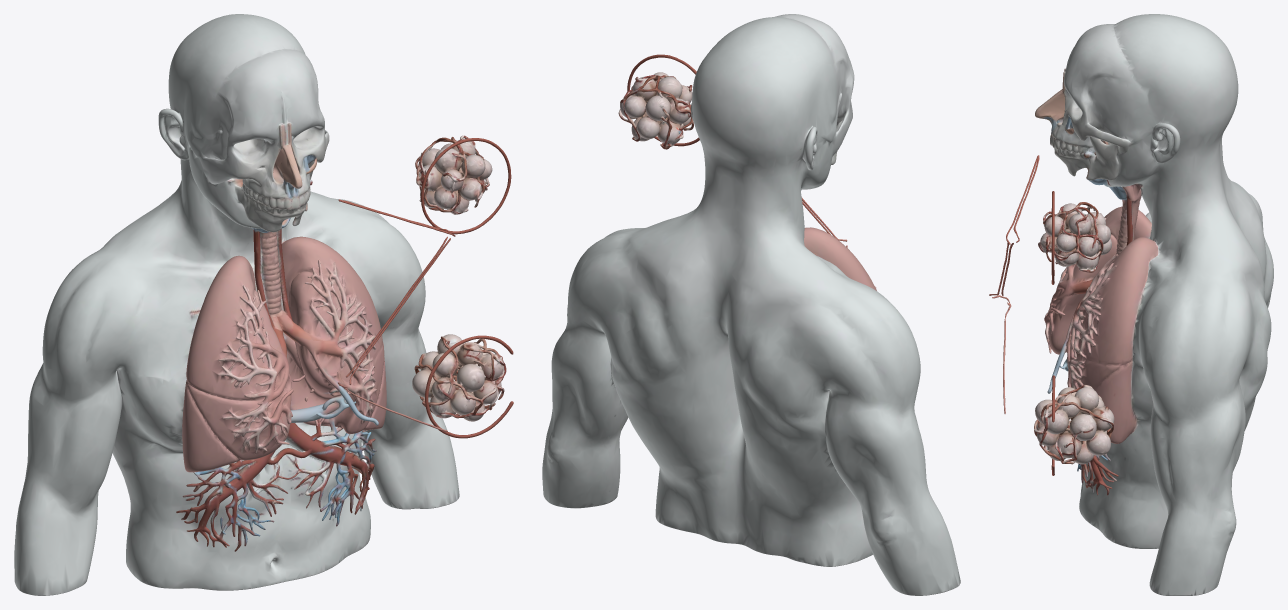
File: lungs-v3.glb
3 renders of one model, left to right at view 1: azimuth 30°, elevation 25°; view 2: azimuth 150°, elevation 25°; view 3: azimuth 270°, elevation 25°, orthographic. The views are drawn at different scales.
Parts seen in each view (by area): view 1: tripo_node_3350d19f-d30a-48d9-bb8e-ba142b0a885f; view 2: tripo_node_3350d19f-d30a-48d9-bb8e-ba142b0a885f; view 3: tripo_node_3350d19f-d30a-48d9-bb8e-ba142b0a885f.
Boxes of the visible parts, x1,y1,x2,y2 form: tripo_node_3350d19f-d30a-48d9-bb8e-ba142b0a885f: (14,14,513,595); tripo_node_3350d19f-d30a-48d9-bb8e-ba142b0a885f: (542,14,960,595); tripo_node_3350d19f-d30a-48d9-bb8e-ba142b0a885f: (989,14,1273,595).
Bounding box in the file's own units: 0.8516 × 0.9999 × 0.537.
Materials: 1 (1 with a texture image).
